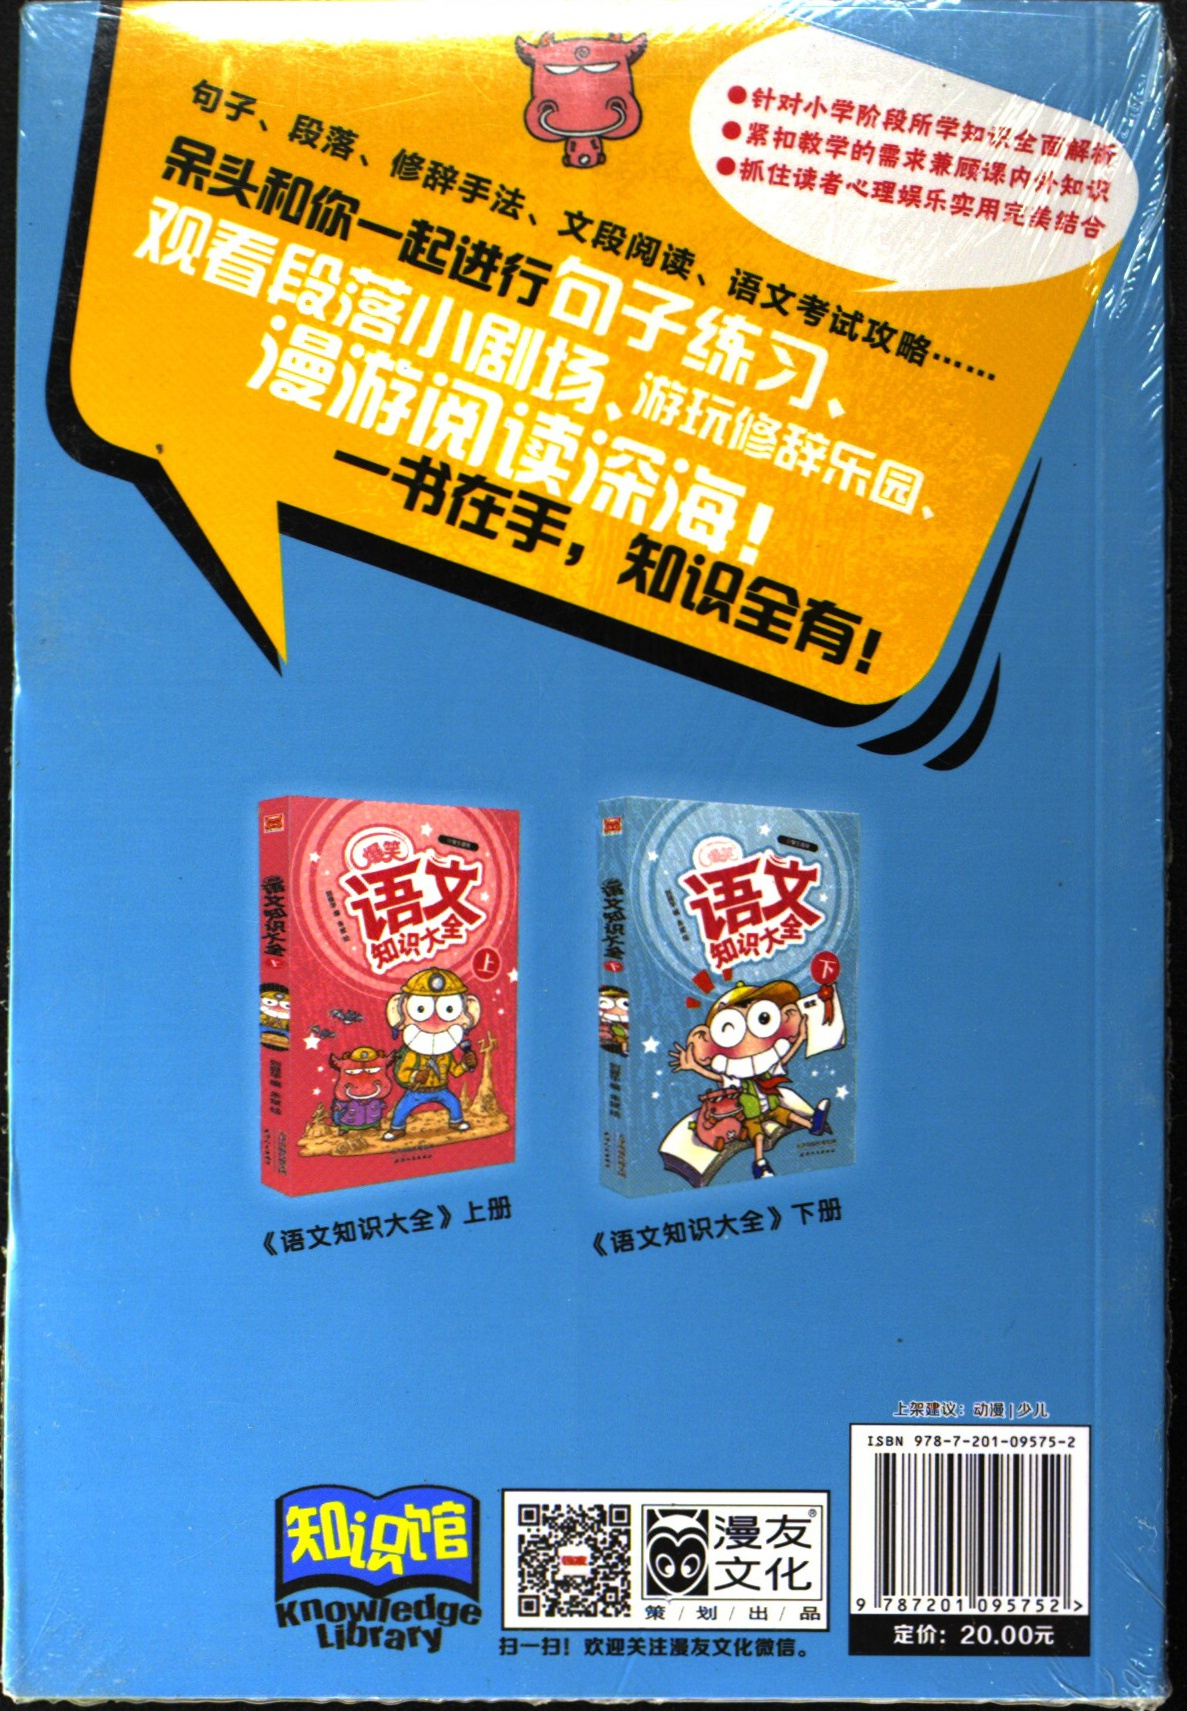barcode: (850, 1431, 1087, 1615)
